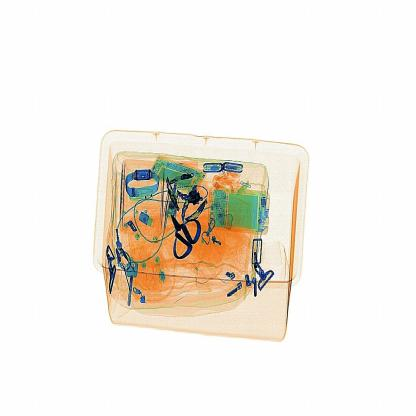gun: (160, 206, 209, 268)
